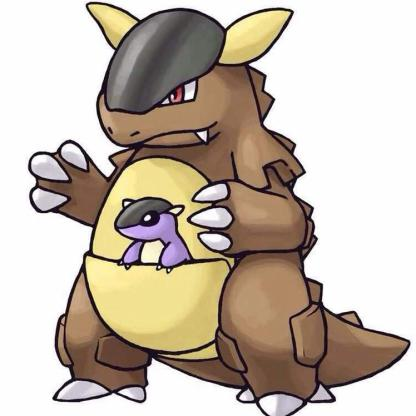Kangaskhan: (43, 1, 414, 416)
